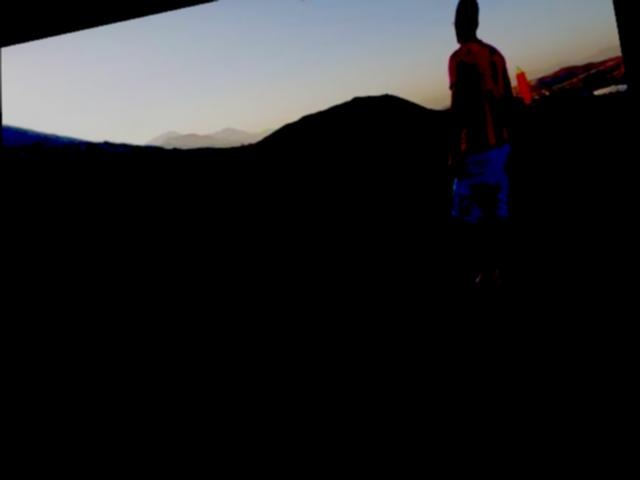iha: (299, 0, 311, 6)
